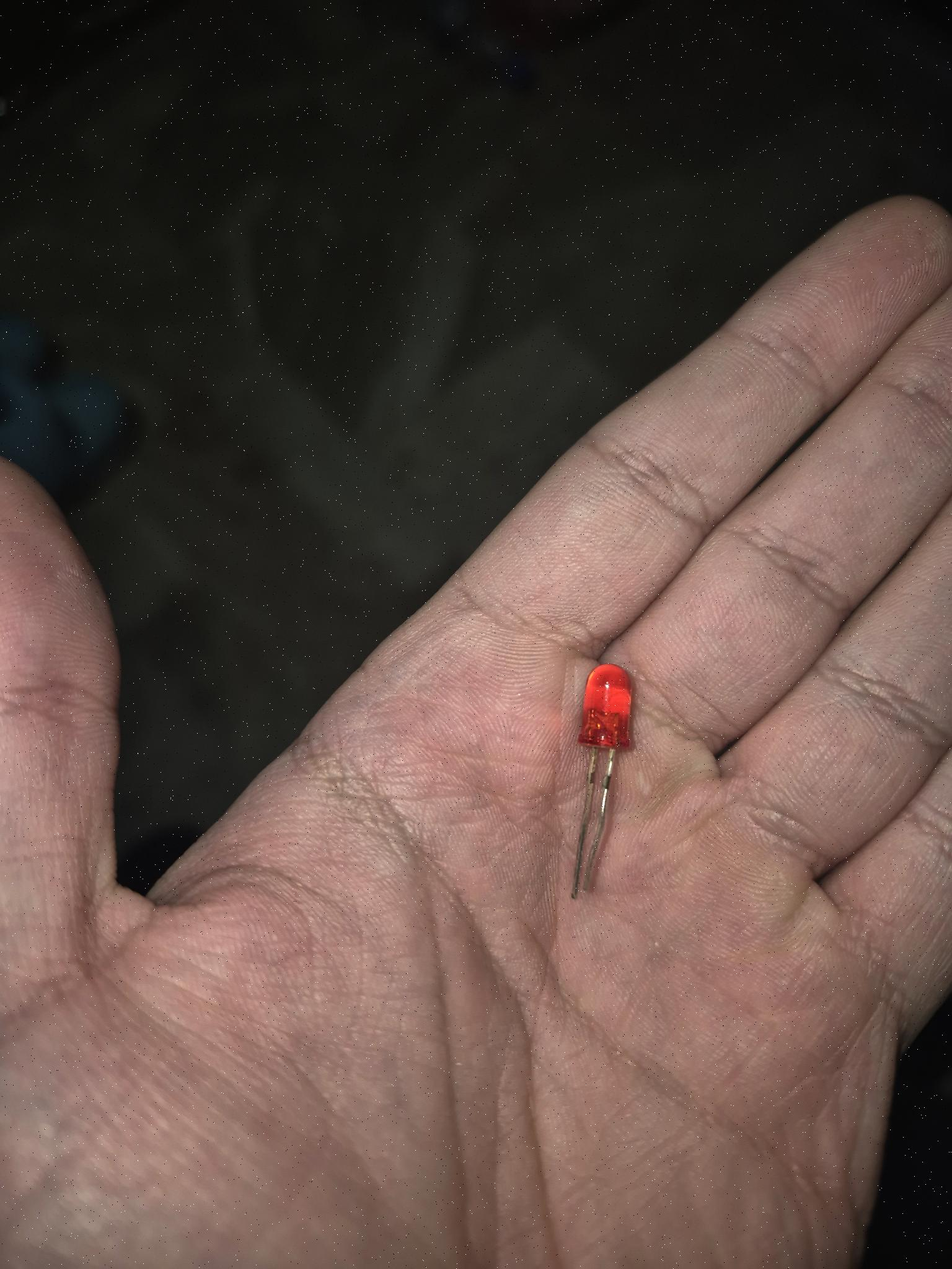led-diode: (571, 663, 635, 899)
